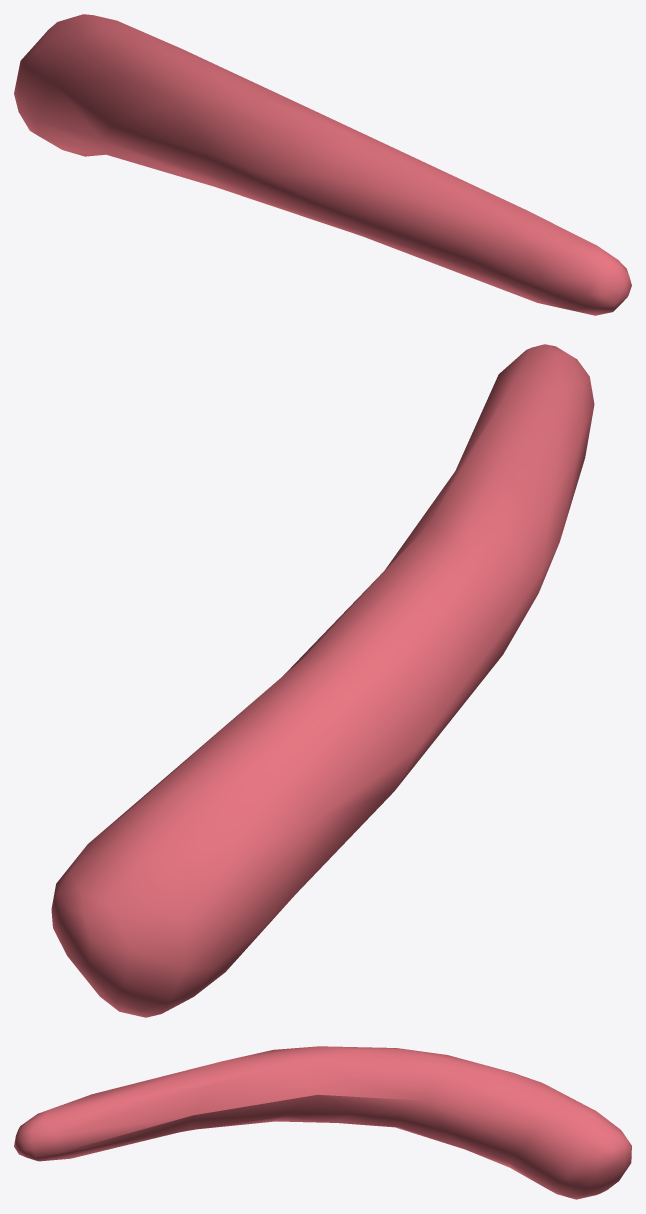
File: fma13279_fj2905.glb
3 renders of one model, top to bottom at view 1: azimuth 30°, elevation 25°; view 2: azimuth 150°, elevation 25°; view 3: azimuth 270°, elevation 25°, orthographic. The views are drawn at different scales.
Parts seen in each view (by area): view 1: FMA13279_FJ2905; view 2: FMA13279_FJ2905; view 3: FMA13279_FJ2905.
Boxes of the visible parts, x1=… form: FMA13279_FJ2905: x1=14, y1=14, x2=631, y2=315; FMA13279_FJ2905: x1=51, y1=344, x2=594, y2=1017; FMA13279_FJ2905: x1=14, y1=1046, x2=631, y2=1199.
Size of the model in its own units: 0.00389 by 0.0034 by 0.0138.
